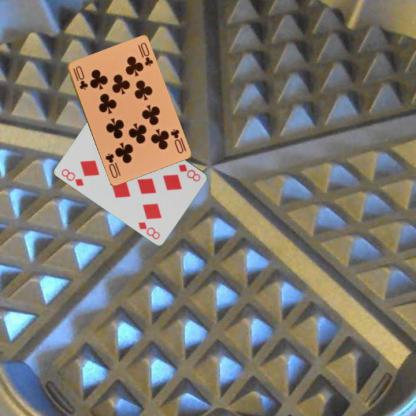10c: (70, 63, 89, 91), (168, 126, 184, 154)
8d: (176, 161, 202, 183), (59, 166, 85, 187)
